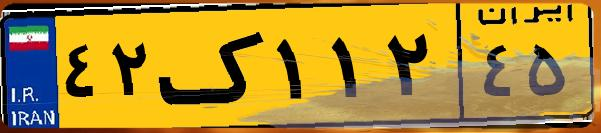1: (270, 28, 330, 110), (330, 28, 385, 110)
2: (385, 28, 445, 110), (110, 28, 158, 98)
4: (57, 26, 110, 100), (475, 38, 525, 113)
5: (525, 38, 570, 115)
ک: (158, 12, 270, 120)
